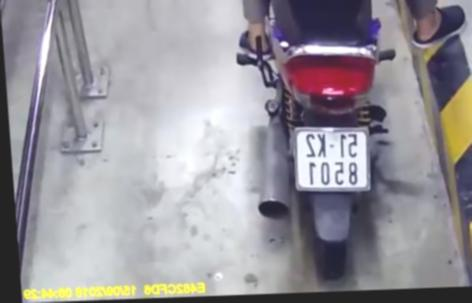License_Plate: (288, 122, 382, 198)
